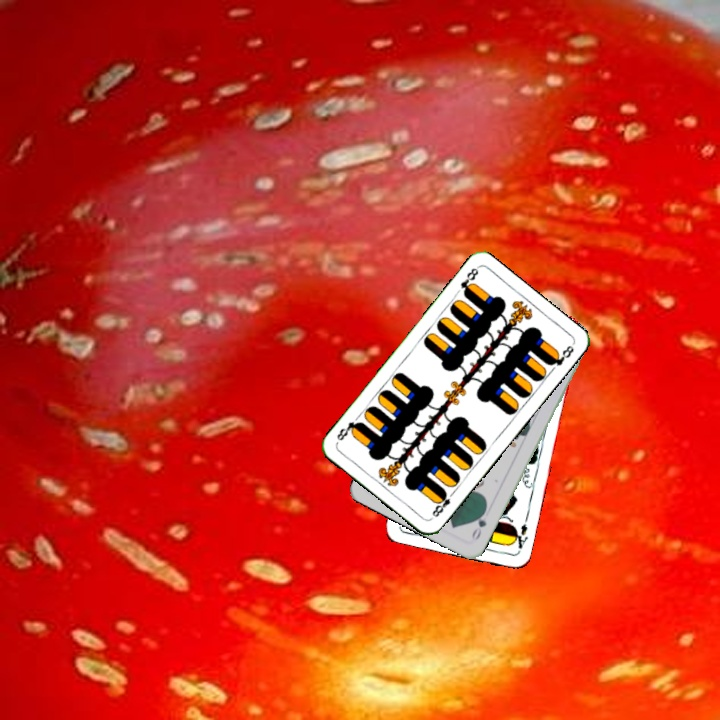E8: (428, 487, 457, 520), (456, 263, 481, 299)
EA: (508, 520, 530, 551)
GO: (467, 505, 489, 543)
